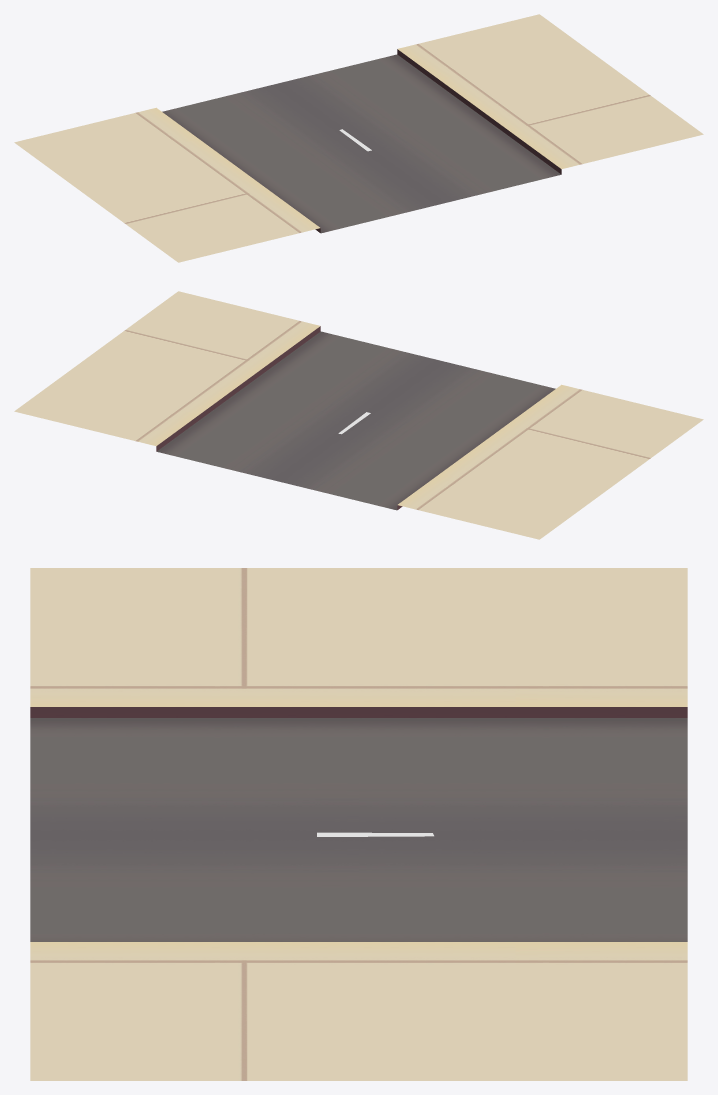
The model's file is Carretera.fbx.
3 views of the same model, one above another, from view 1: azimuth 30°, elevation 25°; view 2: azimuth 150°, elevation 25°; view 3: azimuth 270°, elevation 25° (orthographic). The views are drawn at different scales.
Visible parts, largest first — view 1: Plane.020; view 2: Plane.020; view 3: Plane.020.
Part boxes in pixels (x1=…): Plane.020: x1=14, y1=14, x2=703, y2=262; Plane.020: x1=14, y1=291, x2=703, y2=539; Plane.020: x1=30, y1=568, x2=687, y2=1080.
Bounding box in the file's own units: 1248 × 12.37 × 676.
2 materials, 2 textured.
